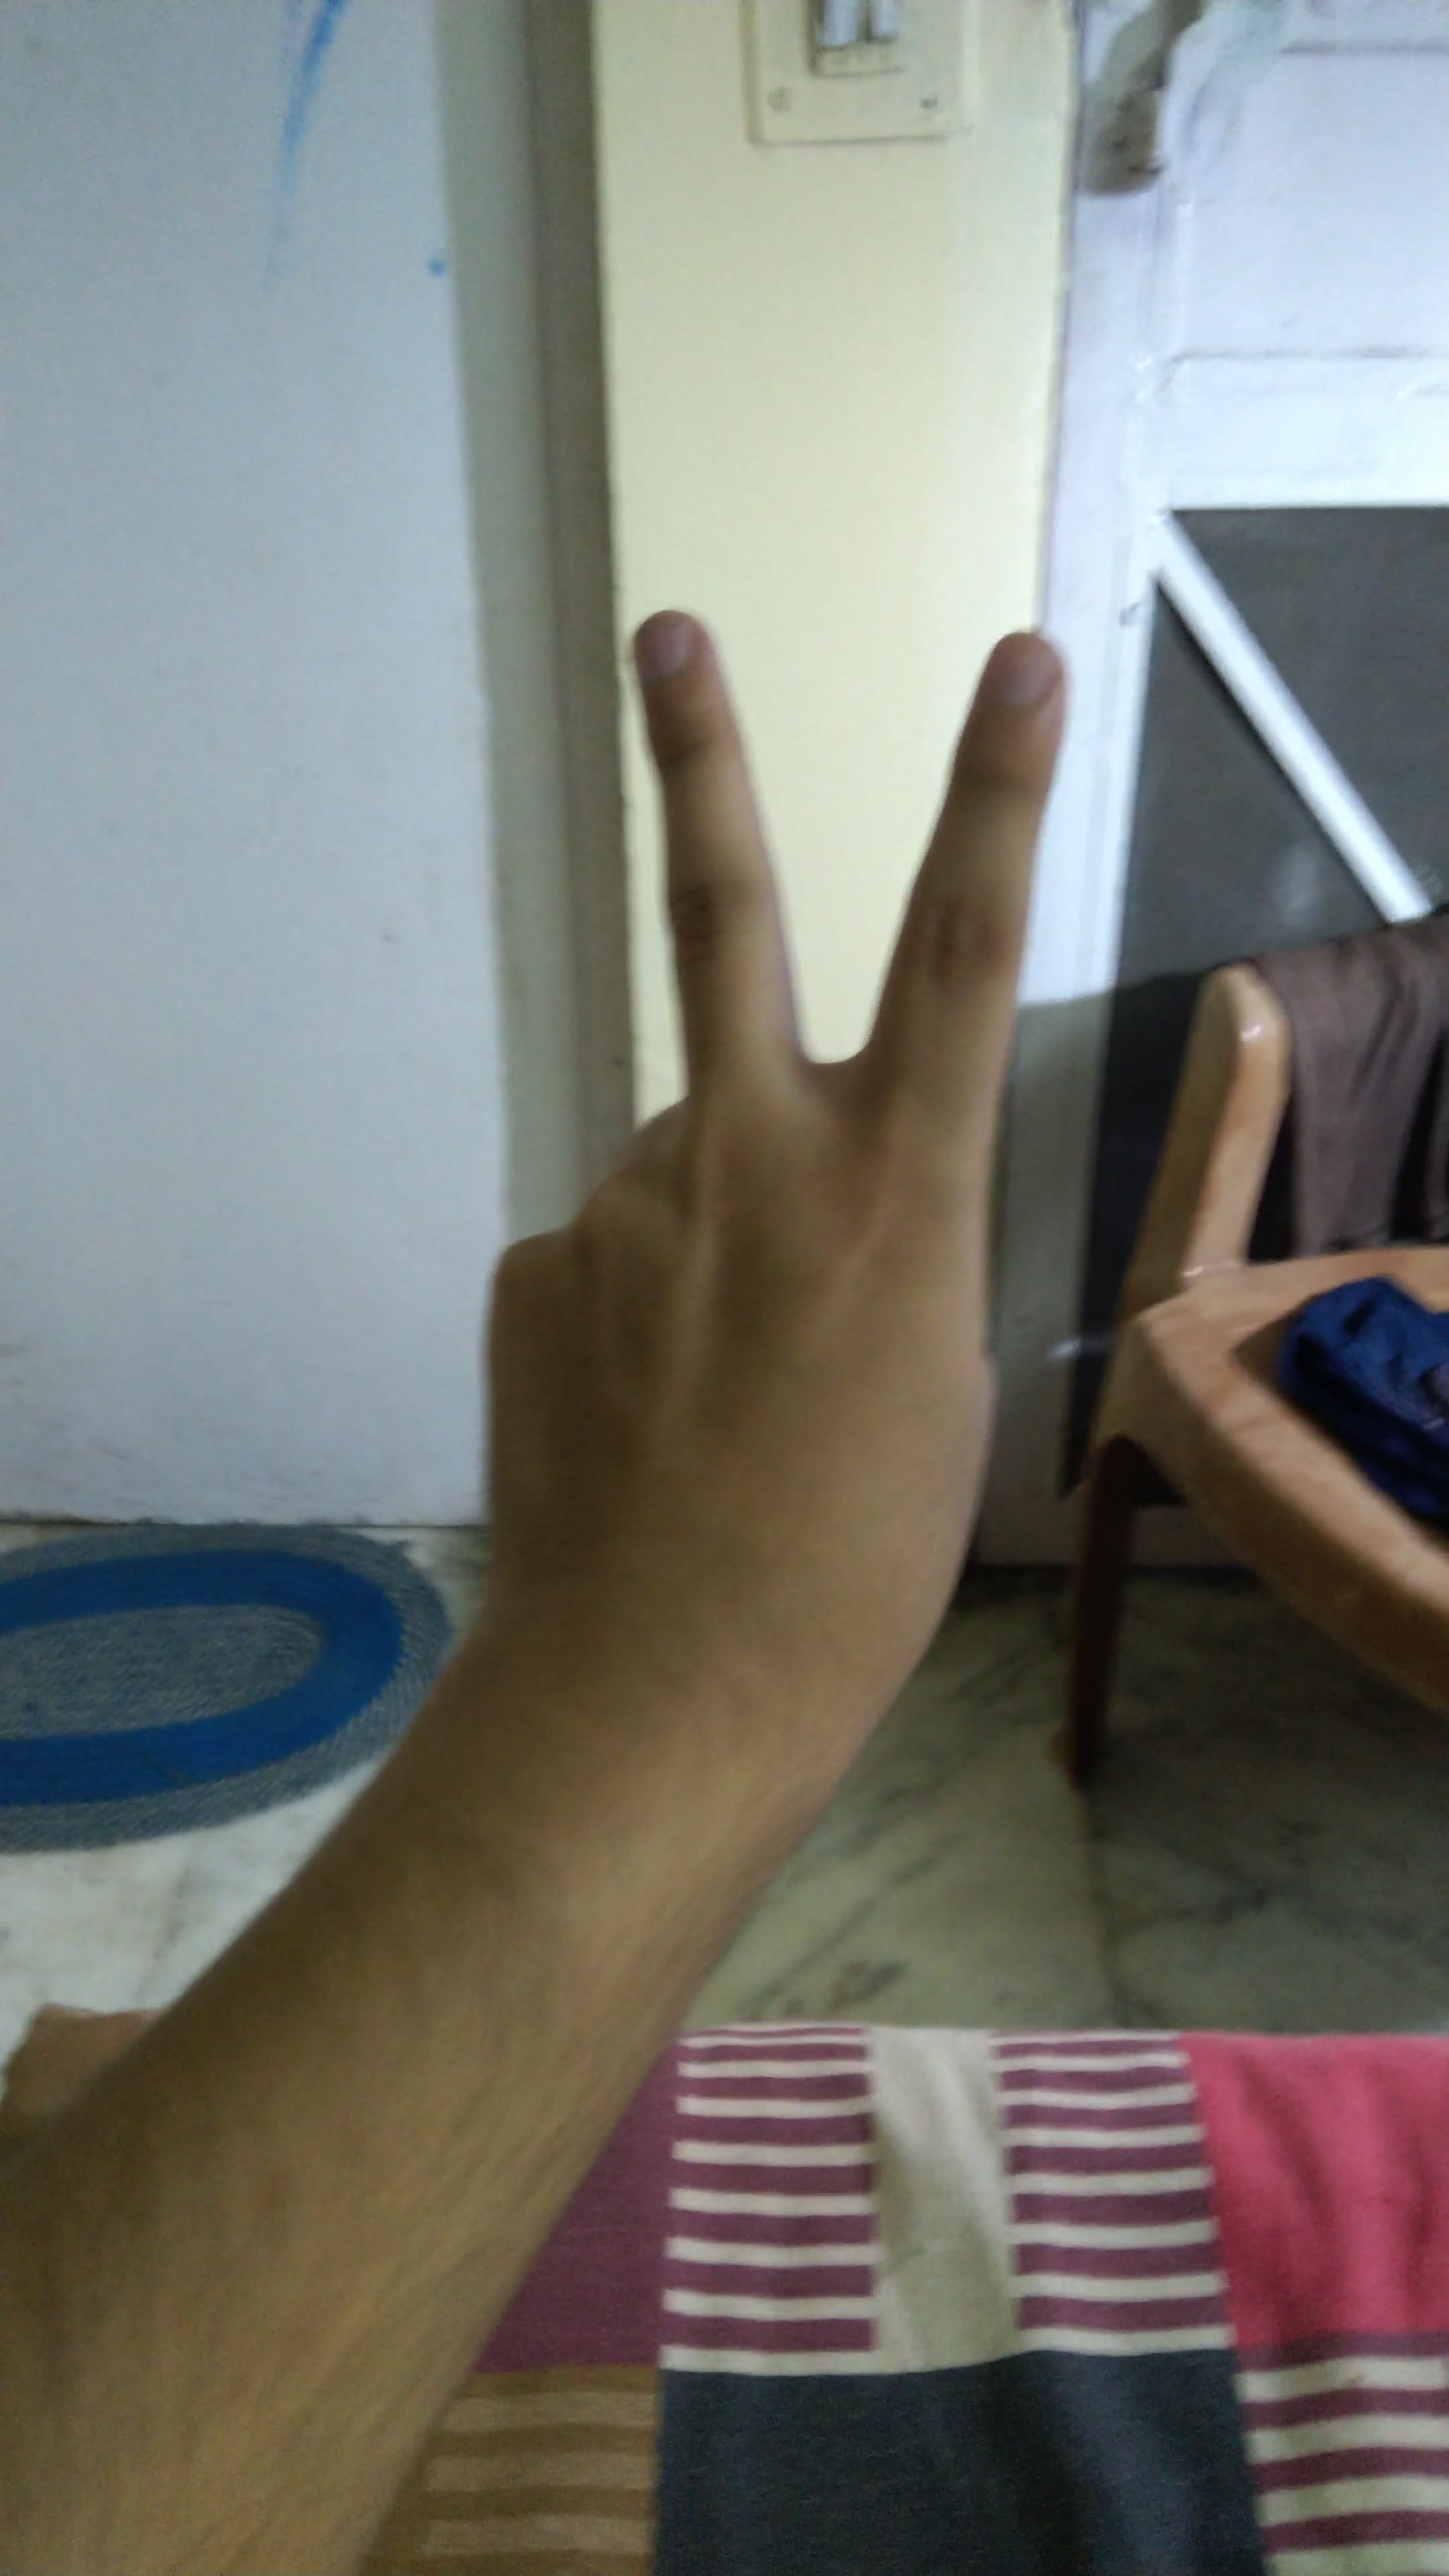hand: (283, 557, 1237, 1743)
